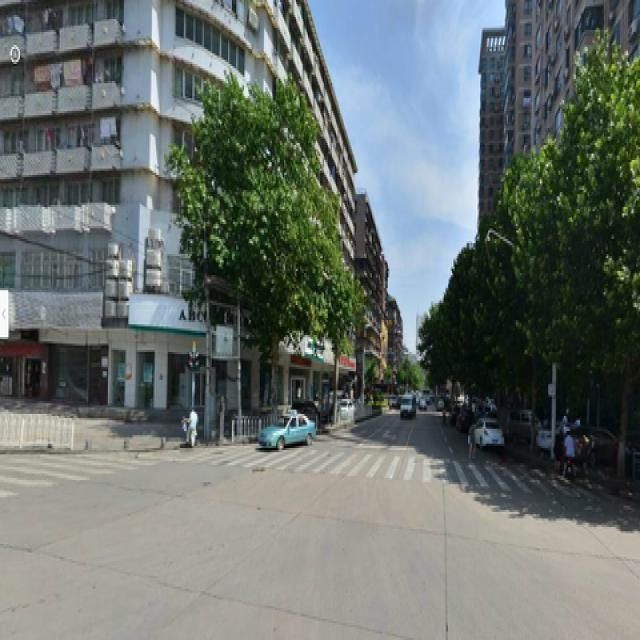meta: (216, 96, 316, 412)
